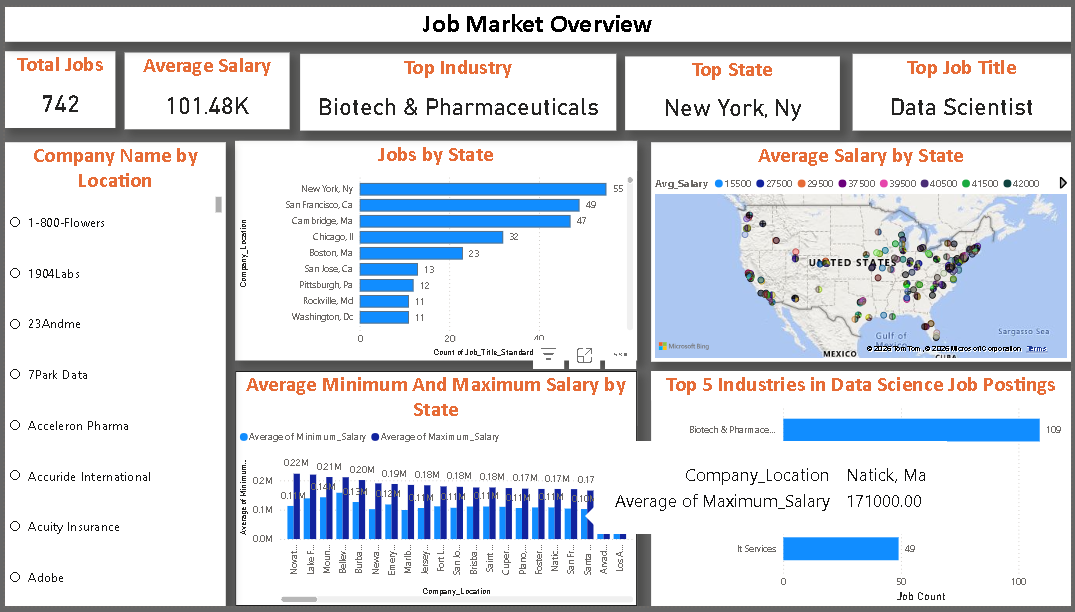

What the dashboard file says about the page in this screenshot:
{"tool":"powerbi","page":{"name":"Task 1","canvas":[1366,768],"ordinal":0},"visuals":[{"type":"clusteredBarChart","title":"Jobs by State","fields":{"Category":["Cleaned_Data.Company_Location"],"Y":["CountNonNull(Cleaned_Data.Job_Title_Standardized)"]},"box":[295,171.7,515,281.7],"z":0},{"type":"clusteredColumnChart","title":"Average Minimum And Maximum Salary by State","fields":{"Category":["Cleaned_Data.Company_Location"],"Y":["Avg(Cleaned_Data.Minimum_Salary)","Avg(Cleaned_Data.Maximum_Salary)"]},"box":[295,466.7,515,301.7],"z":1000},{"type":"map","title":"Average Salary by State","fields":{"Category":["Cleaned_Data.Company_Location"],"Series":["Cleaned_Data.Avg_Salary"]},"box":[828.3,173.3,538.3,281.7],"z":2000},{"type":"clusteredBarChart","title":"Top 5 Industries in Data Science Job Postings","fields":{"Category":["Cleaned_Data.Industry"],"Y":["Cleaned_Data.Job Count"]},"box":[828.3,466.7,538.3,301.7],"z":3000},{"type":"listSlicer","title":"Company Name by Location","fields":{"Values":["Cleaned_Data.Company_Name"]},"box":[0,173.3,283.3,595],"z":4000},{"type":"card","title":"Total Jobs","fields":{"Values":["CountNonNull(Cleaned_Data.ID)"]},"box":[0,56.7,141.7,98.3],"z":5000},{"type":"card","title":"Average Salary","fields":{"Values":["Avg(Cleaned_Data.Avg_Salary)"]},"box":[153.3,58.3,211.7,98.3],"z":6000},{"type":"card","title":"Top Industry","fields":{"Values":["Cleaned_Data.Top Industry"]},"box":[378.3,60,405,98.3],"z":7000},{"type":"card","title":"Top State","fields":{"Values":["Cleaned_Data.Top_City"]},"box":[795,63.3,275,95],"z":8000},{"type":"card","title":"Top Job Title","fields":{"Values":["Cleaned_Data.Top_Job_Title"]},"box":[1086.7,60,280,98.3],"z":9000},{"type":"textbox","title":"Job Market Overview","box":[0,0,1366.7,45],"z":10000}]}

Visuals, with their boxes in screenshot pixels (x1, y1, x2, y2), scaled from the page's 1366x768 canvas onto the 1075x612 screenshot:
"Jobs by State" clusteredBarChart: {"left": 232, "top": 137, "right": 637, "bottom": 361}
"Average Minimum And Maximum Salary by State" clusteredColumnChart: {"left": 232, "top": 372, "right": 637, "bottom": 611}
"Average Salary by State" map: {"left": 652, "top": 138, "right": 1074, "bottom": 363}
"Top 5 Industries in Data Science Job Postings" clusteredBarChart: {"left": 652, "top": 372, "right": 1074, "bottom": 611}
"Company Name by Location" listSlicer: {"left": 0, "top": 138, "right": 223, "bottom": 611}
"Total Jobs" card: {"left": 0, "top": 45, "right": 112, "bottom": 124}
"Average Salary" card: {"left": 121, "top": 46, "right": 287, "bottom": 125}
"Top Industry" card: {"left": 298, "top": 48, "right": 616, "bottom": 126}
"Top State" card: {"left": 626, "top": 50, "right": 842, "bottom": 126}
"Top Job Title" card: {"left": 855, "top": 48, "right": 1074, "bottom": 126}
"Job Market Overview" textbox: {"left": 0, "top": 0, "right": 1074, "bottom": 36}
